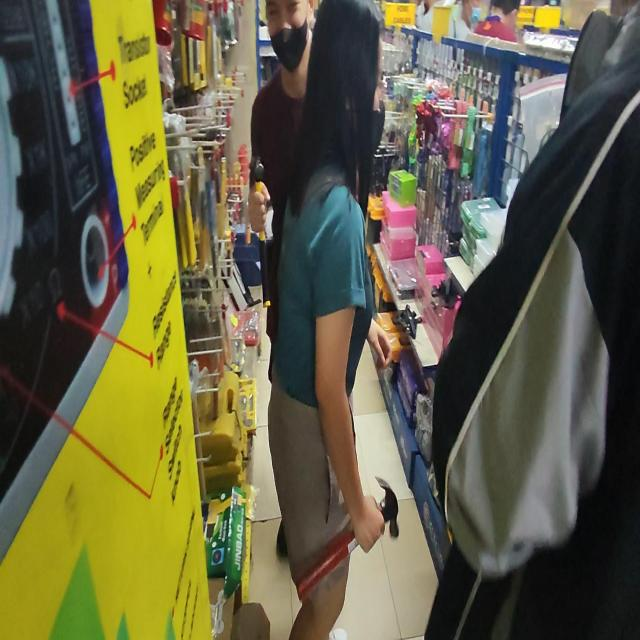hammer: (297, 476, 401, 599), (249, 156, 271, 308)
